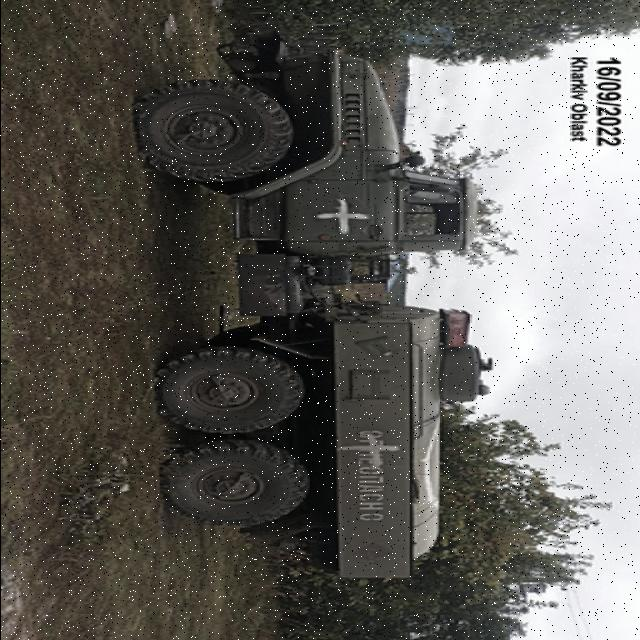TRUCK: (126, 25, 498, 581)
